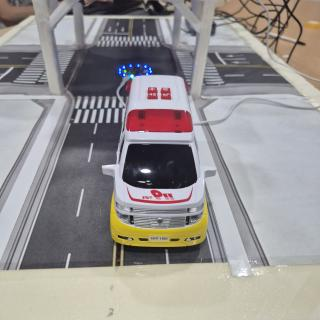Ambulance: (102, 75, 216, 247)
